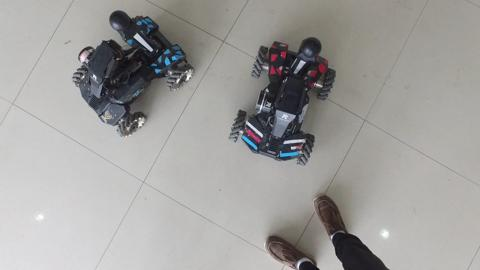chariot: (64, 9, 198, 144), (226, 30, 343, 174)
